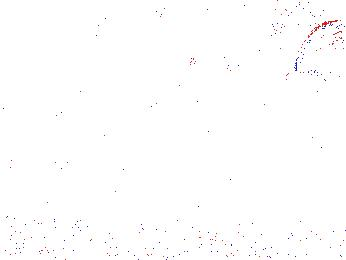moon jellyfish: (281, 70, 345, 148), (149, 73, 196, 154), (290, 20, 346, 77), (263, 4, 332, 49), (204, 8, 251, 73), (156, 3, 203, 67)
